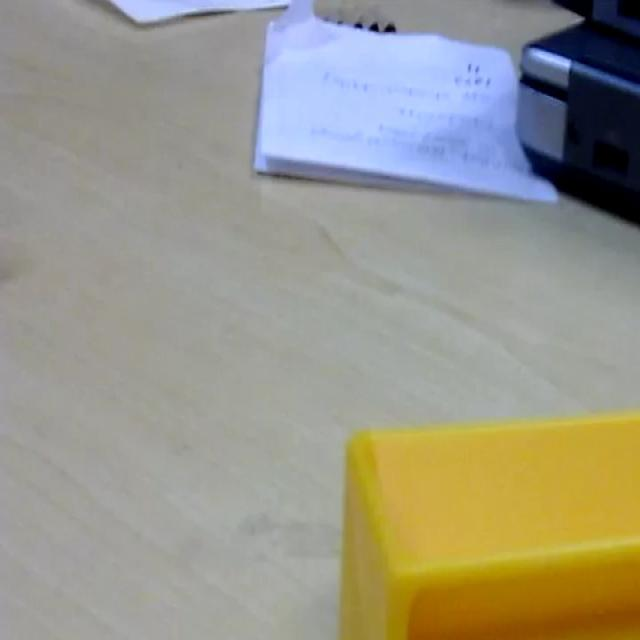yellow_block: (338, 408, 638, 636)
